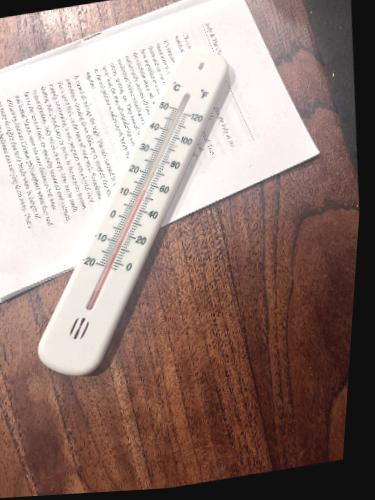thermo: (28, 40, 245, 386)
